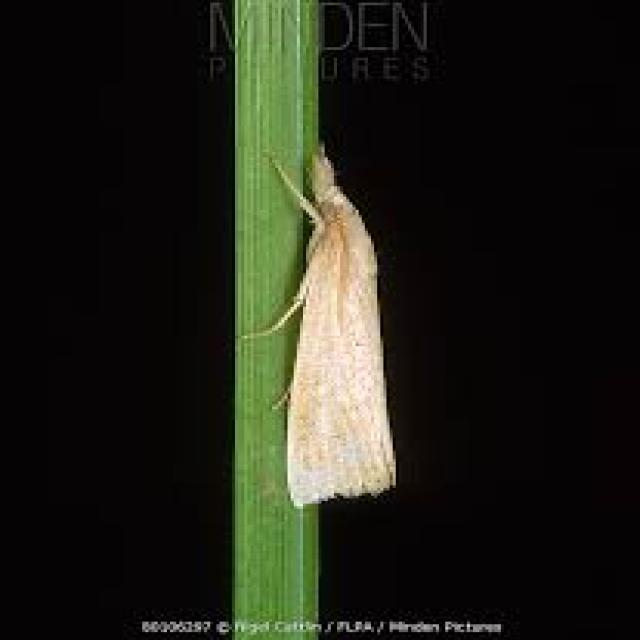yellow-stem-borer: (225, 126, 429, 517)
